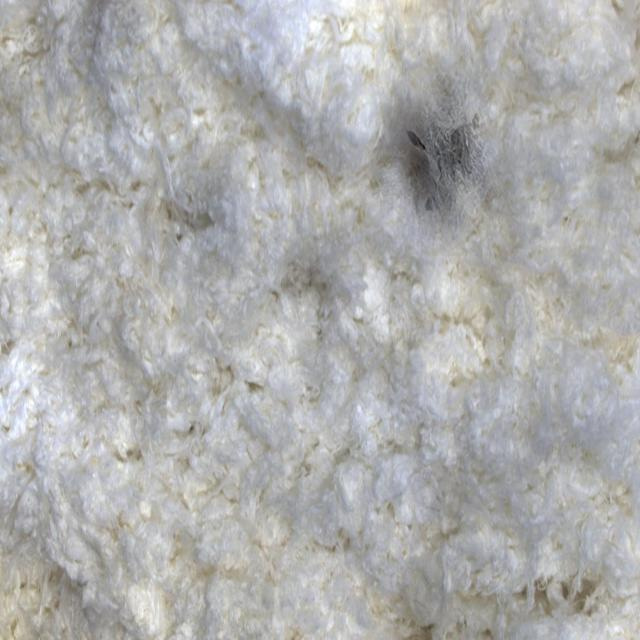dust: (303, 27, 535, 264)
